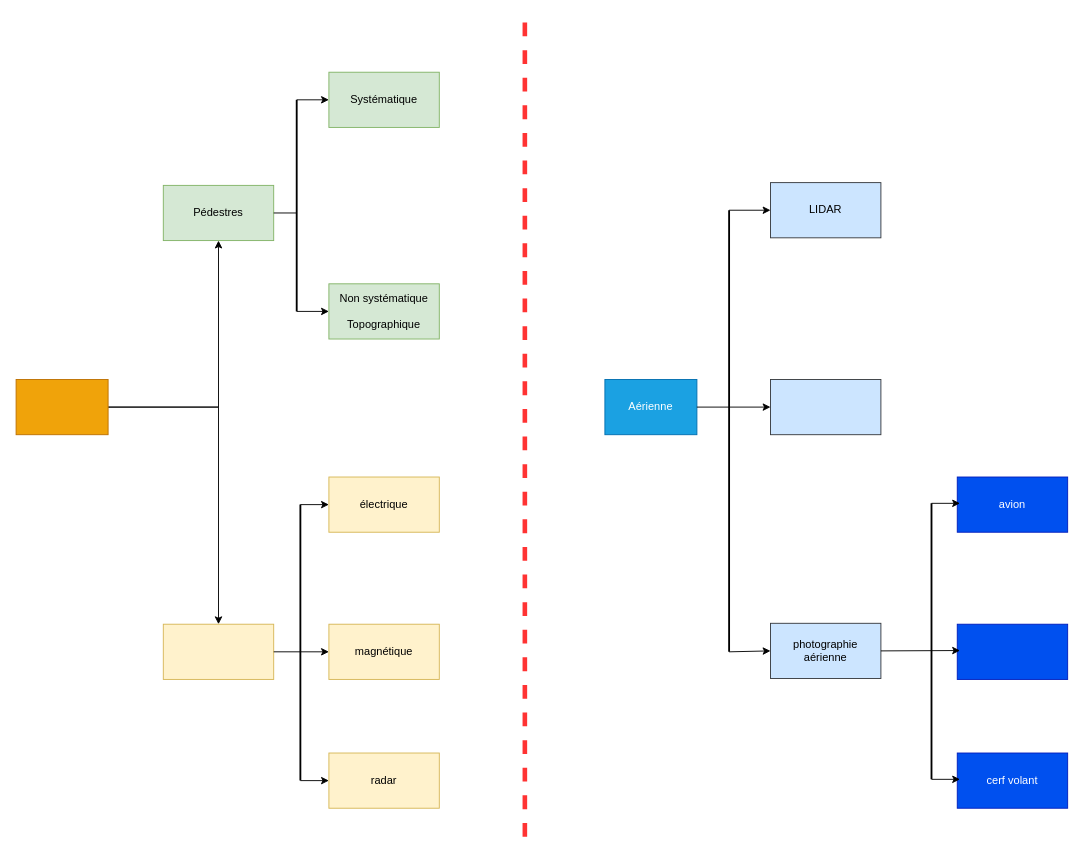
Some shapes in this 1084 by 856 pixel diagram are drawn without their labels. The box of each missing label's shape, as (x1, y1, x2, y2) in pixels:
Au sol: (15, 379, 108, 435)
drone: (956, 623, 1068, 679)
Géophysiques: (162, 623, 274, 679)
Satellite: (770, 379, 881, 435)
